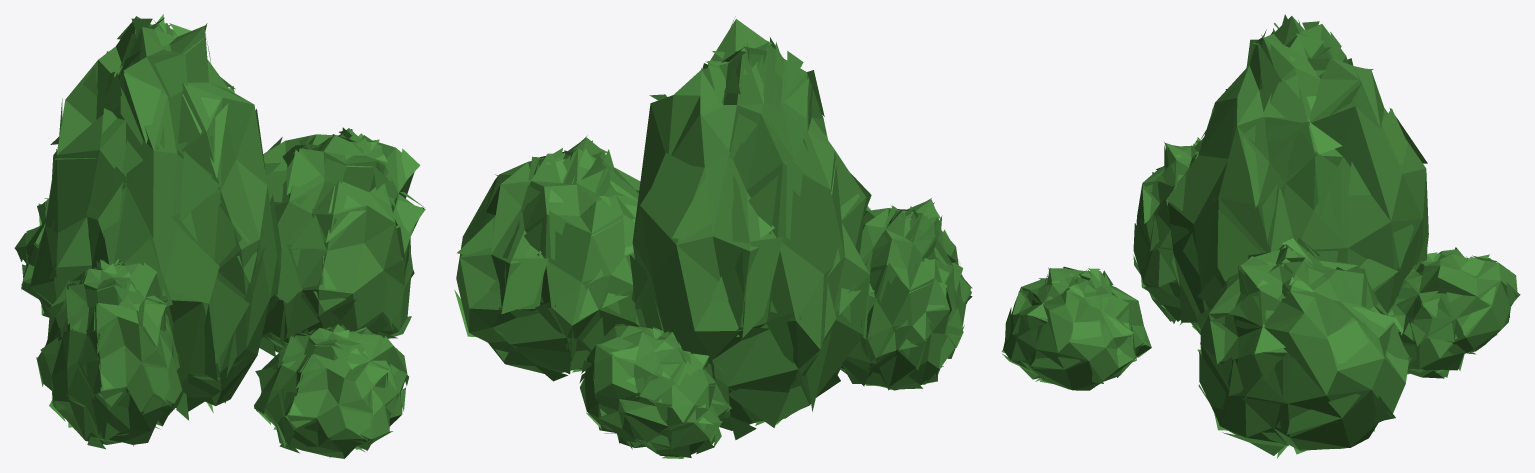
File: Bush 3.fbx
3 views of the same model, side by side, from view 1: azimuth 30°, elevation 25°; view 2: azimuth 150°, elevation 25°; view 3: azimuth 270°, elevation 25° (orthographic). The views are drawn at different scales.
Visible parts, largest first — view 1: Bush 3; view 2: Bush 3; view 3: Bush 3.
Boxes of the visible parts, x1,y1,x2,y2 form: Bush 3: (14,14,425,458); Bush 3: (454,16,972,458); Bush 3: (1001,14,1520,458).
Size of the model in its own units: 540 by 474 by 615.
